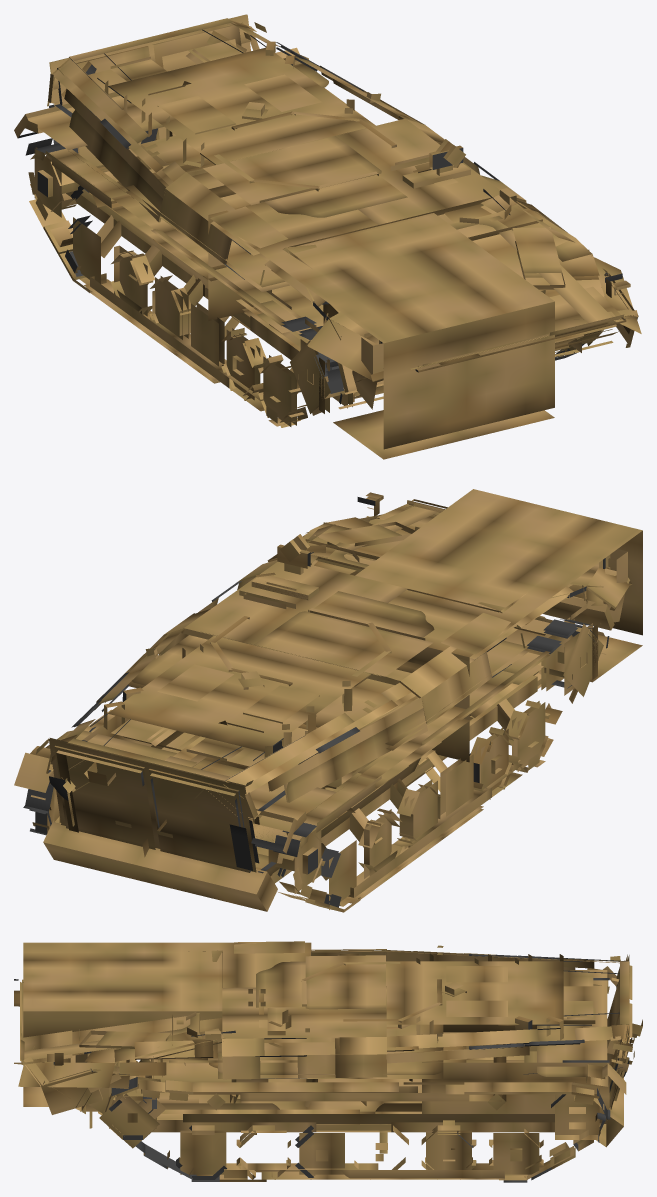
File: bmp1.obj
The picture shows the model from 3 angles, top to bottom: view 1: azimuth 30°, elevation 25°; view 2: azimuth 150°, elevation 25°; view 3: azimuth 270°, elevation 25°; orthographic projection. The views are drawn at different scales.
Visible parts, largest first — view 1: body, tracks, w1, w2, w3, w6, w5, w8, w4, w7; view 2: body, tracks, w1, w2, w3, w5, w6, w8, w7, w4; view 3: body, tracks, w10, w9, w14, w15, w12, w16, w11, w13.
Part boxes in pixels (x1,y1,x2,y2): body: (14,14,641,459); tracks: (25,88,601,426); w1: (290,339,352,413); w2: (258,354,304,427); w3: (221,328,266,400); w6: (111,245,154,316); w5: (149,275,190,339); w8: (30,148,79,217); w4: (191,302,224,366); w7: (68,215,100,283); body: (14,489,642,911); tracks: (23,619,593,912); w1: (541,617,603,696); w2: (506,700,550,772); w3: (469,727,513,799); w5: (397,779,440,848); w6: (358,808,402,878); w8: (268,829,325,894); w7: (321,840,356,909); w4: (440,754,473,816); body: (14,941,642,1153); tracks: (103,1077,610,1182); w10: (176,1125,226,1179); w9: (99,1087,166,1148); w14: (421,1125,476,1169); w15: (489,1129,543,1177); w12: (295,1125,344,1177); w16: (551,1094,604,1139); w11: (236,1125,290,1179); w13: (354,1125,408,1169).
Bounding box in the file's own units: 3.73 × 2.38 × 7.86.
